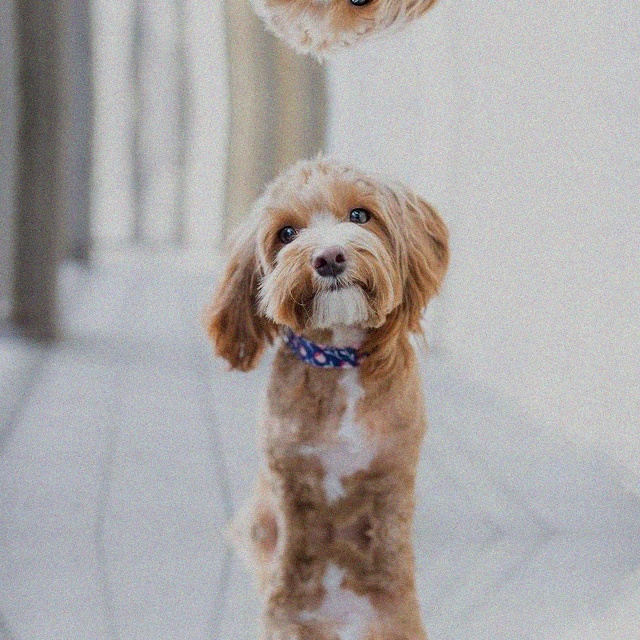dog: (182, 136, 464, 396), (182, 0, 464, 76)
